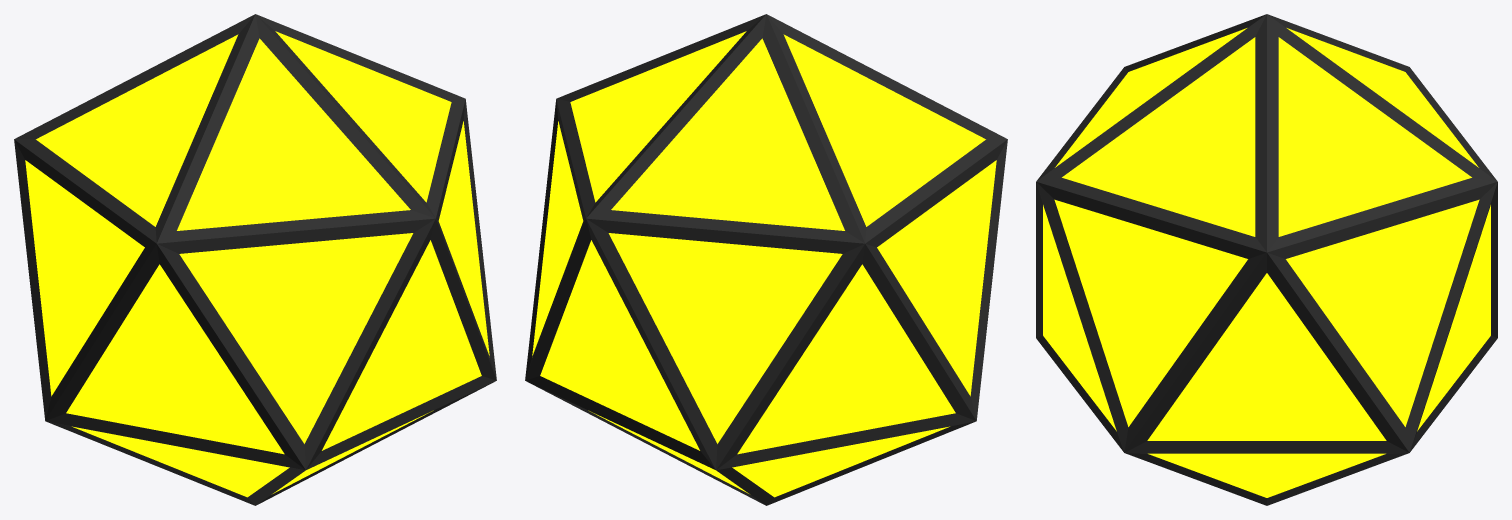
File: point.fbx
3 renders of one model, left to right at view 1: azimuth 30°, elevation 25°; view 2: azimuth 150°, elevation 25°; view 3: azimuth 270°, elevation 25°, orthographic.
Parts seen in each view (by area): view 1: Mesh; view 2: Mesh; view 3: Mesh.
Part boxes in pixels (x1,y1,x2,y2): Mesh: [14, 14, 496, 505]; Mesh: [525, 14, 1007, 505]; Mesh: [1036, 14, 1497, 505].
Bounding box in the file's own units: 181 × 202 × 172.
